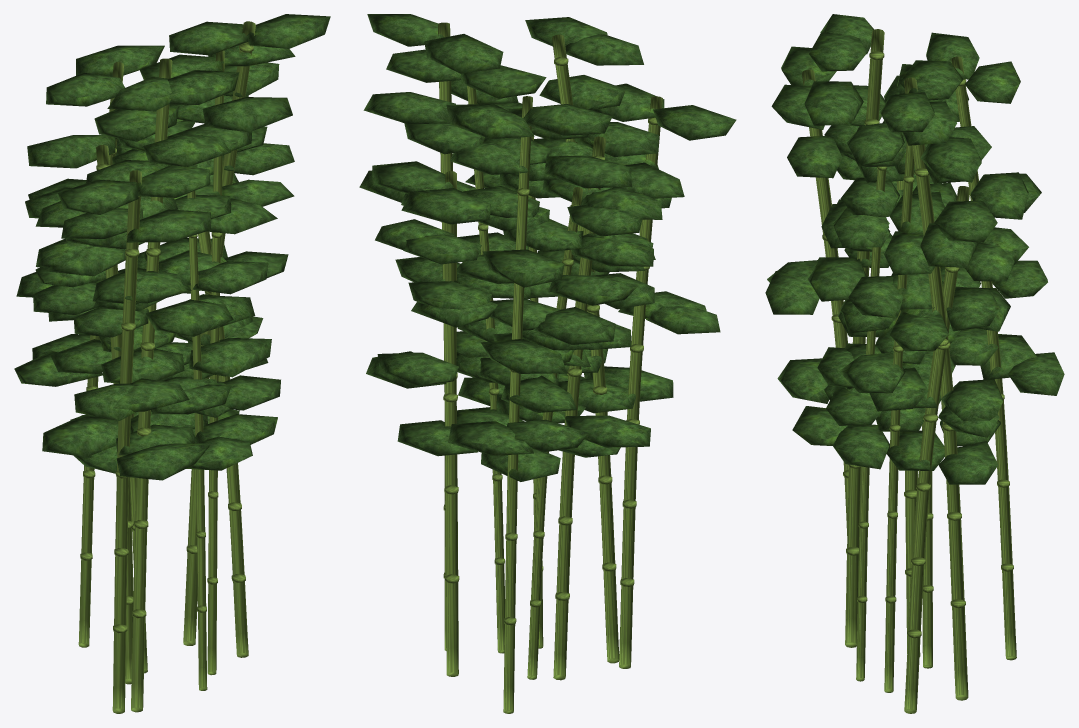
File: bamboo_cluster.glb
3 views of the same model, side by side, from view 1: azimuth 30°, elevation 25°; view 2: azimuth 150°, elevation 25°; view 3: azimuth 270°, elevation 25° (orthographic).
Visible parts, largest first — view 1: BambooLeaves, BambooStalks; view 2: BambooLeaves, BambooStalks; view 3: BambooLeaves, BambooStalks.
Part boxes in pixels (x1,y1,x2,y2): BambooLeaves: [14, 14, 330, 480]; BambooStalks: [78, 21, 255, 713]; BambooLeaves: [359, 14, 736, 481]; BambooStalks: [438, 22, 662, 713]; BambooLeaves: [765, 14, 1064, 484]; BambooStalks: [802, 29, 1016, 713].
Size of what is drawn, in the model's own units: 3.94 by 7.51 by 3.2.
Materials: 2 (2 with a texture image).
